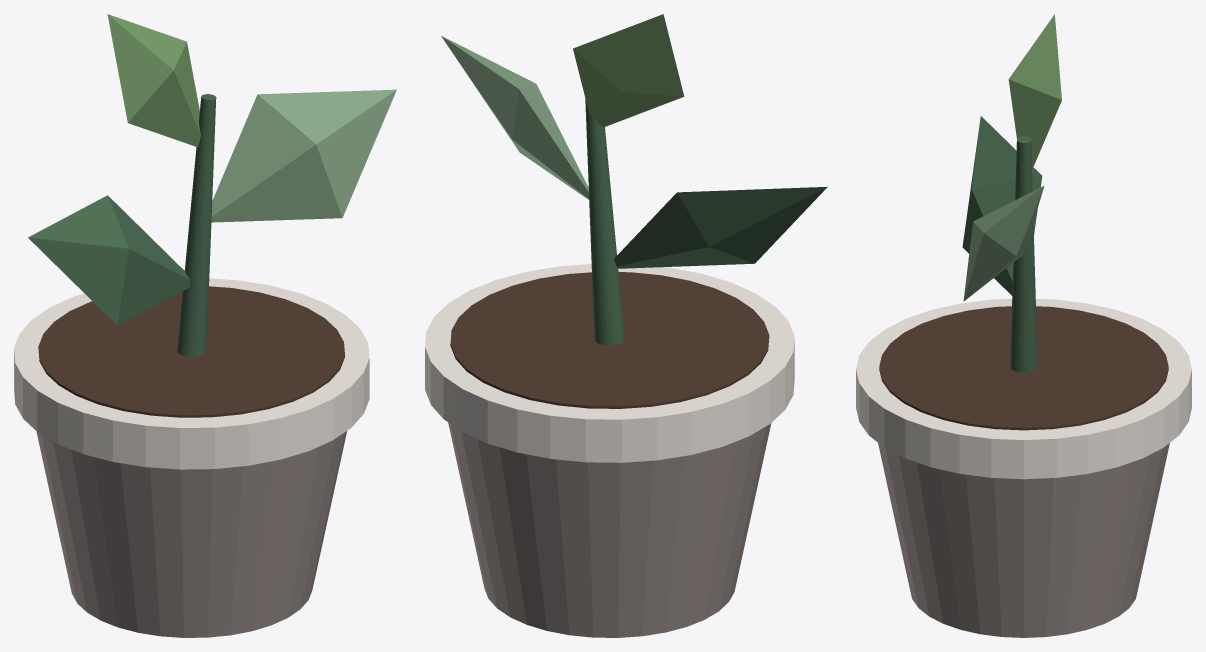
Rendered from pot.glb.
3 views of the same model, side by side, from view 1: azimuth 30°, elevation 25°; view 2: azimuth 150°, elevation 25°; view 3: azimuth 270°, elevation 25° (orthographic). The views are drawn at different scales.
Parts seen in each view (by area): view 1: ceramic pot, soil, rim, leaf 2, leaf 1, leaf 3, stem; view 2: ceramic pot, soil, rim, leaf 1, leaf 3, leaf 2, stem; view 3: ceramic pot, soil, rim, leaf 3, leaf 2, leaf 1, stem.
Part boxes in pixels (x1=…): ceramic pot: x1=36, y1=431, x2=346, y2=637; soil: x1=38, y1=286, x2=344, y2=417; rim: x1=14, y1=278, x2=369, y2=469; leaf 2: x1=211, y1=89, x2=396, y2=222; leaf 1: x1=28, y1=195, x2=190, y2=325; leaf 3: x1=107, y1=14, x2=200, y2=147; stem: x1=177, y1=94, x2=216, y2=356; ceramic pot: x1=448, y1=422, x2=771, y2=637; soil: x1=450, y1=272, x2=769, y2=408; rim: x1=425, y1=264, x2=794, y2=462; leaf 1: x1=614, y1=186, x2=827, y2=268; leaf 3: x1=573, y1=14, x2=684, y2=127; leaf 2: x1=441, y1=36, x2=589, y2=199; stem: x1=585, y1=99, x2=624, y2=345; ceramic pot: x1=878, y1=443, x2=1169, y2=637; soil: x1=879, y1=306, x2=1168, y2=430; rim: x1=856, y1=298, x2=1191, y2=479; leaf 3: x1=1008, y1=14, x2=1061, y2=169; leaf 2: x1=963, y1=186, x2=1044, y2=301; leaf 1: x1=962, y1=116, x2=1042, y2=295; stem: x1=1010, y1=136, x2=1037, y2=372.
Bounding box in the file's own units: 1.31 × 1.95 × 1.09.
